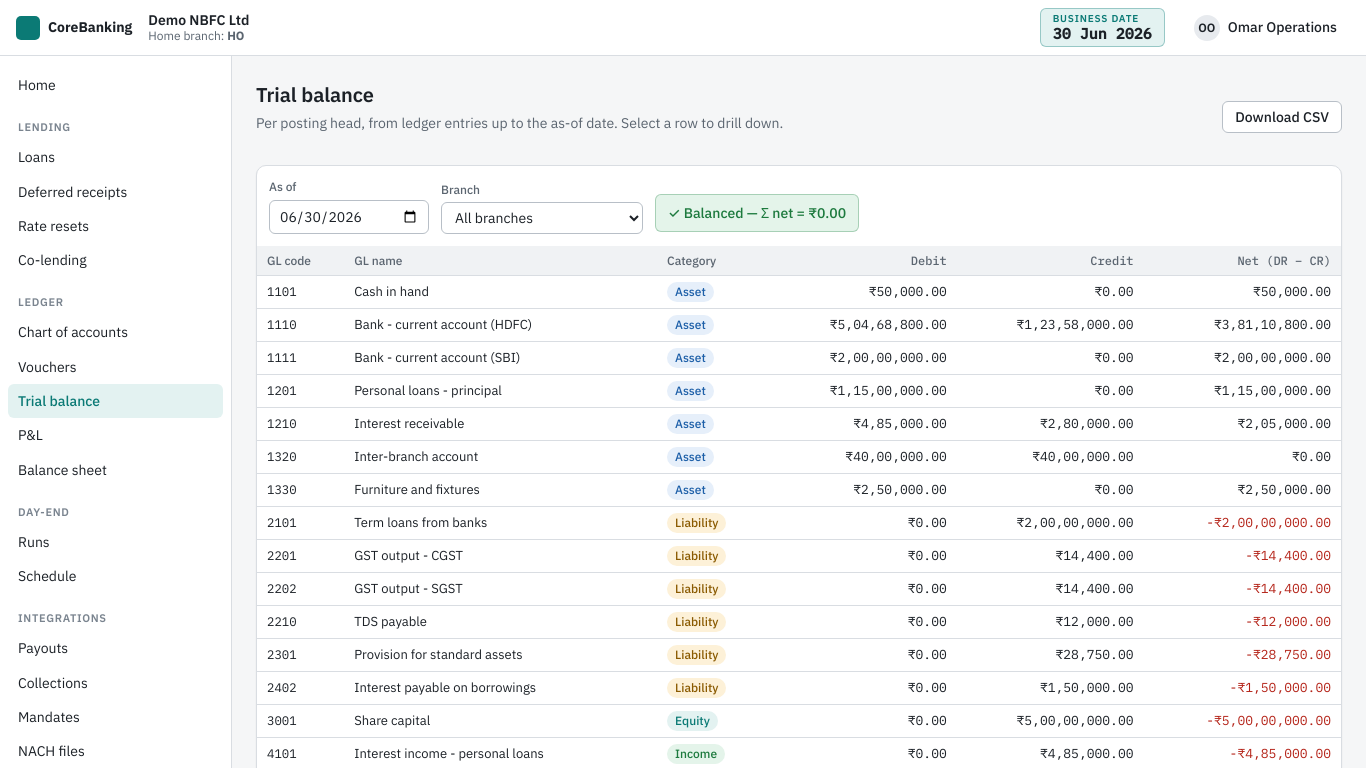
ledger reports › filters by branch and drills down to entries
Expected: the text "✓ Balanced — Σ net = ₹0.00" is shown, [655,194,859,232]
Select "MUM — Mumbai - Andheri" in the dropdown labelled "Branch" at [542, 218], box [441,202,643,234]
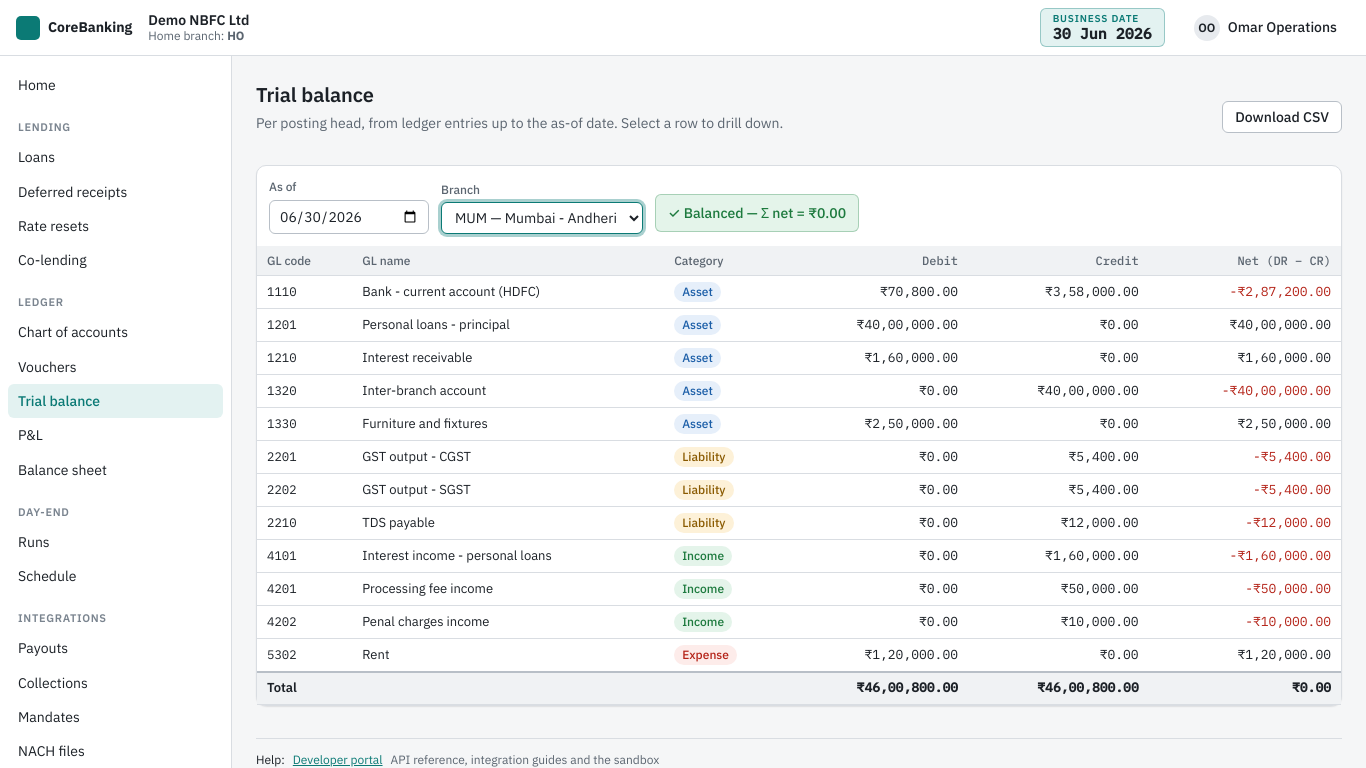
Expected: the text "✓ Balanced — Σ net = ₹0.00" is shown, [655,194,859,232]
Click the row named "Show entries for 1330 Furniture and fixtures" at [799, 424], box [257,408,1341,441]
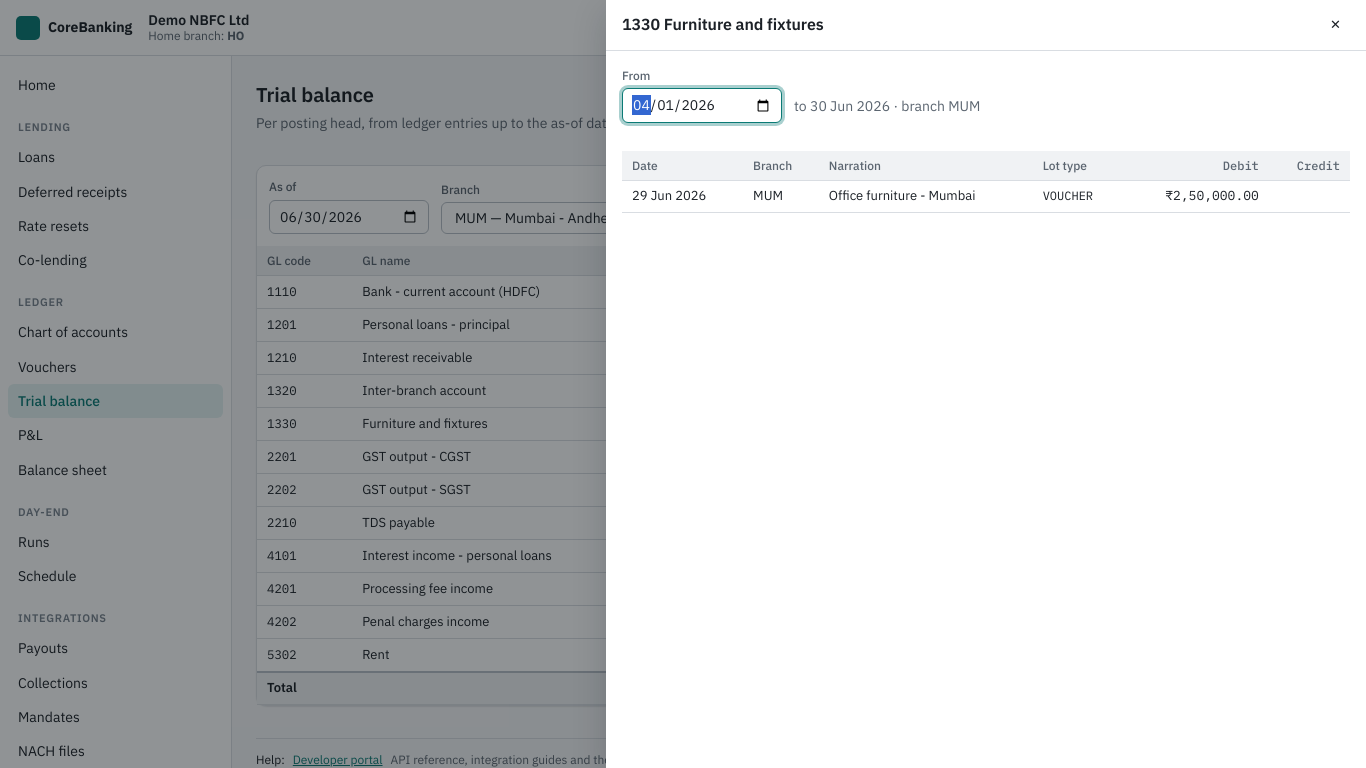
Expected: the text "Office furniture - Mumbai" is shown, [819,181,1033,212]
